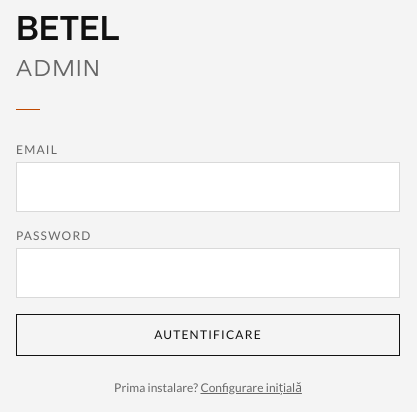
Scenario: Admin — initial setup › navigates to setup page
What coordinates should you click on to do the following:
click the link with test id "setup-link"
I would click on:
 (252, 388)
Its box is [201,380,303,395].
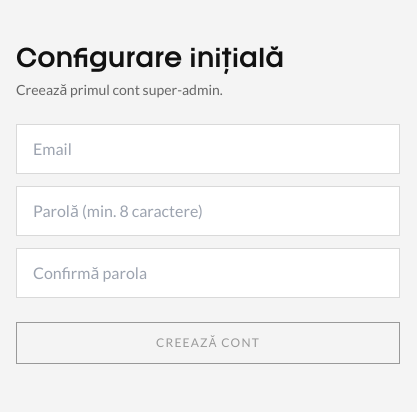
Expected: the element with test id "setup-form" is shown
